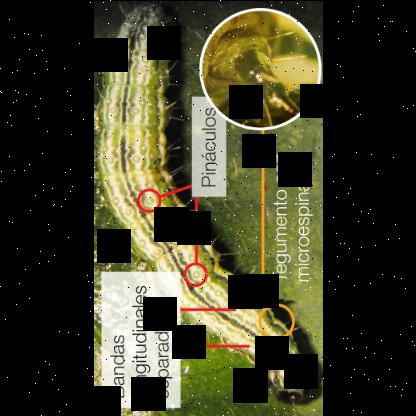oruga: (140, 43, 244, 416)
